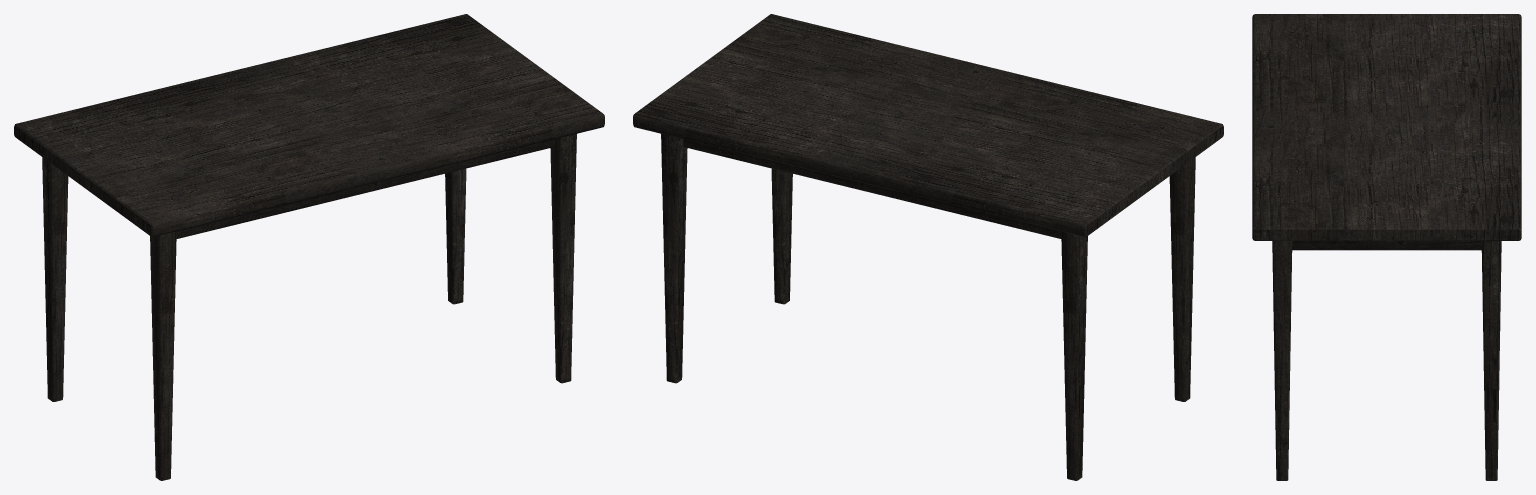
The model's file is table_large_3.glb.
3 views of the same model, side by side, from view 1: azimuth 30°, elevation 25°; view 2: azimuth 150°, elevation 25°; view 3: azimuth 270°, elevation 25° (orthographic). The views are drawn at different scales.
Parts seen in each view (by area): view 1: table_large_3; view 2: table_large_3; view 3: table_large_3.
Boxes of the visible parts, box(x1,y1,x2,y2) form: table_large_3: box(14, 14, 604, 480); table_large_3: box(633, 14, 1223, 480); table_large_3: box(1252, 14, 1521, 480).
Bounding box in the file's own units: 1.7 × 0.97 × 0.9.
Materials: 1 (1 with a texture image).
